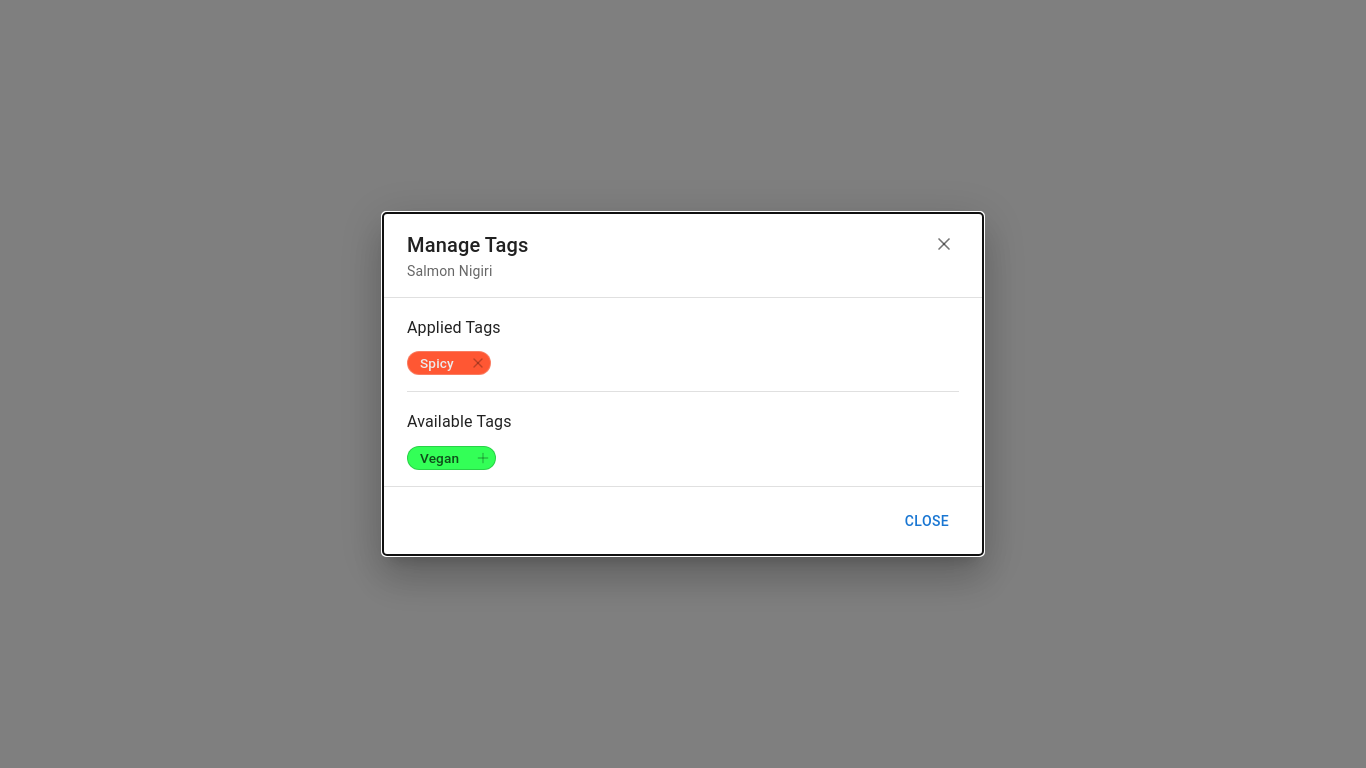
Tags dialog › clears the error on the next try, when closed with ×, and when reopened
Click the button "Vegan" at (452, 458), box [407,446,496,470]
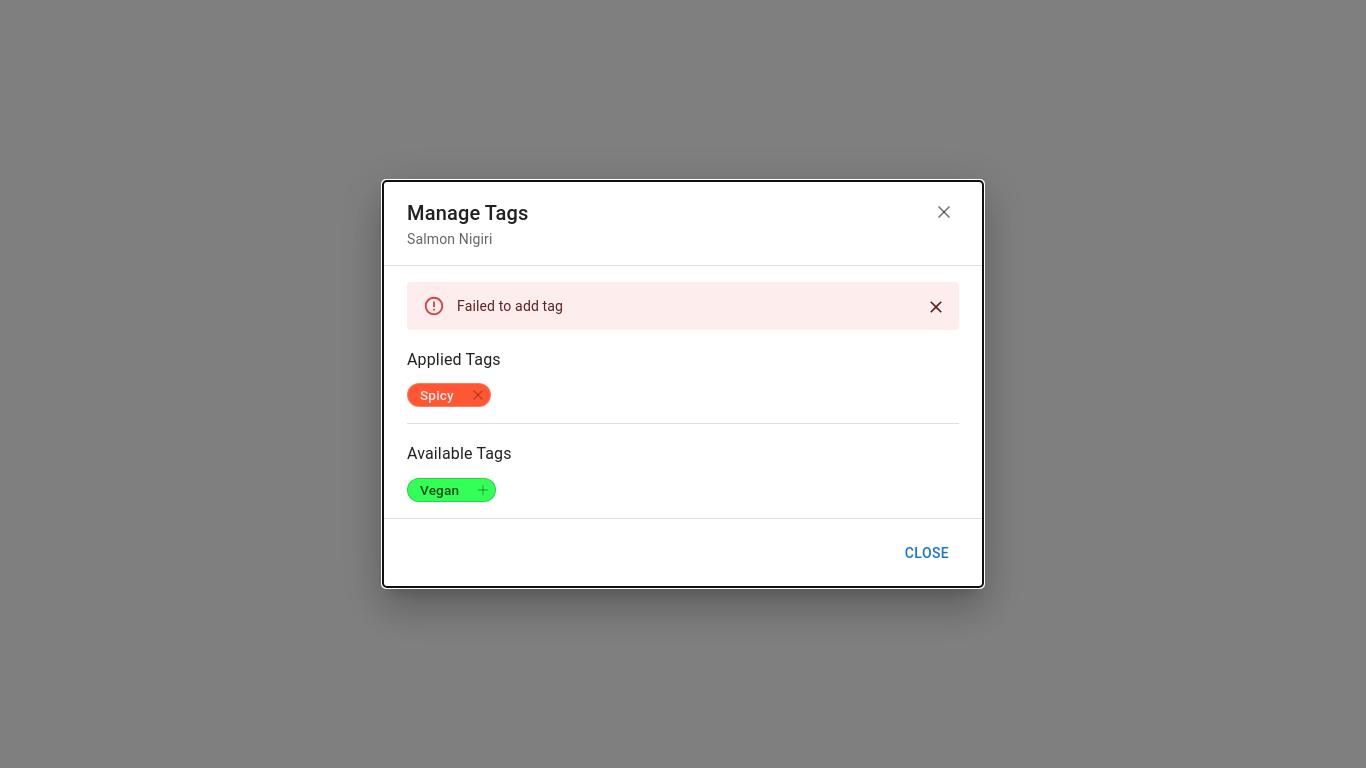
expect the message "Failed to add tag" is shown: met, box [407,282,959,330]
Click the button "Vegan" at (452, 490), box [407,478,496,502]
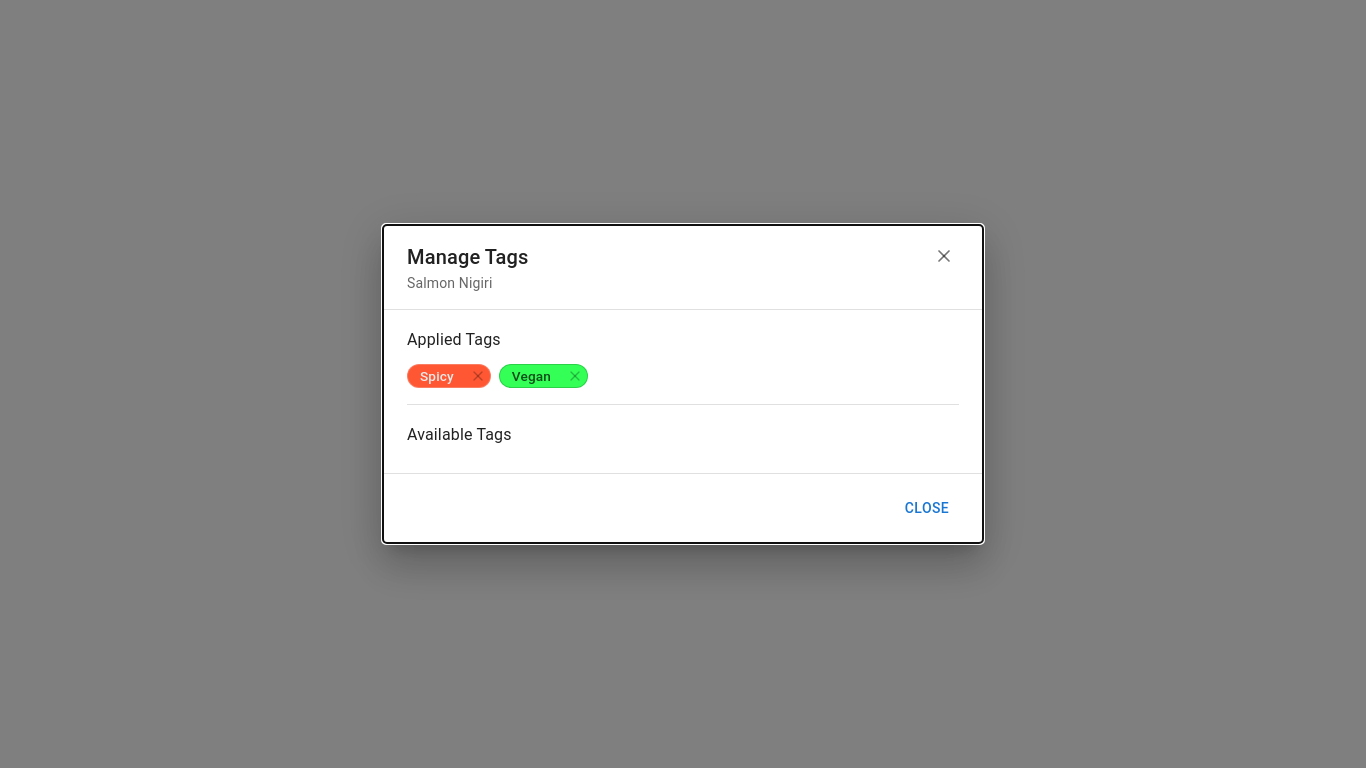
expect the message "Failed to add tag" is gone: met
Click the button "Spicy" at (449, 376), box [407,364,491,388]
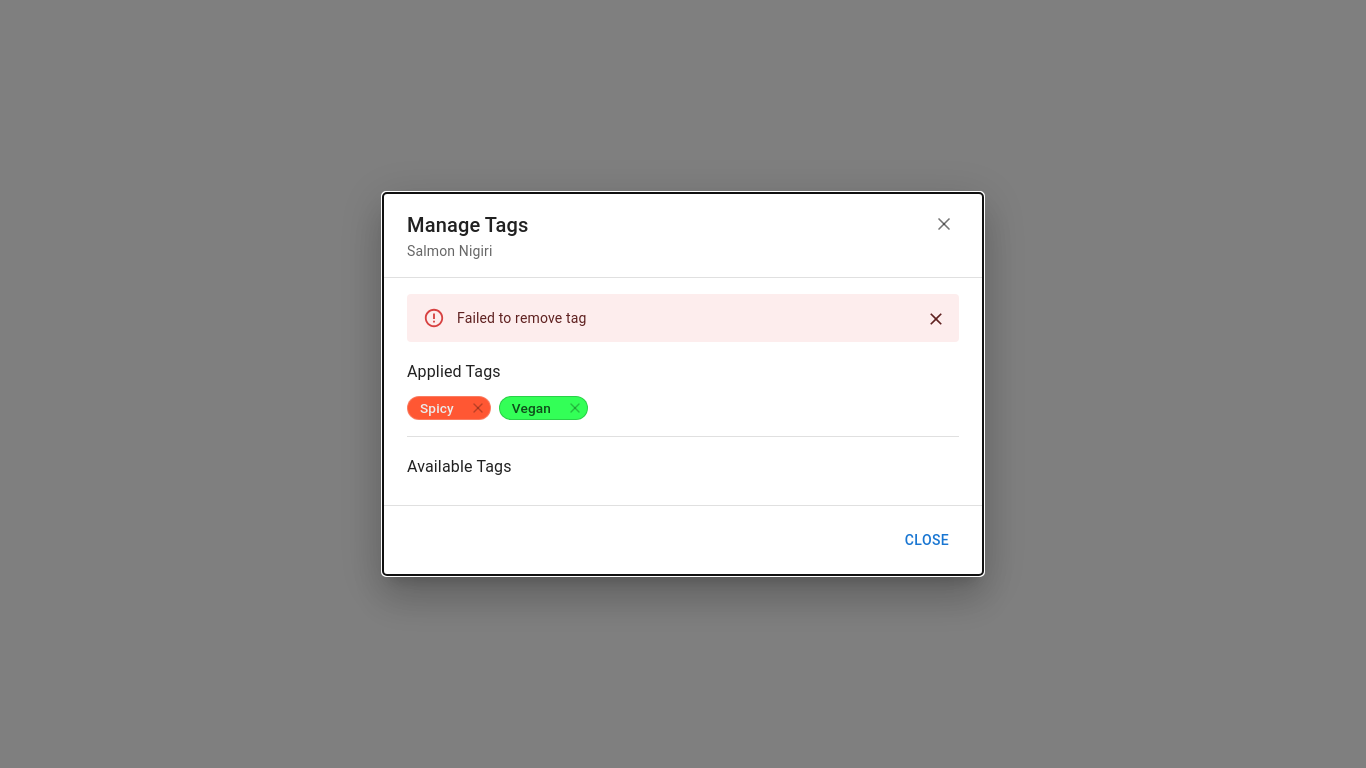
Click the button named "Close" in the row of "Failed to remove tag" at (936, 319), box [921,304,951,334]
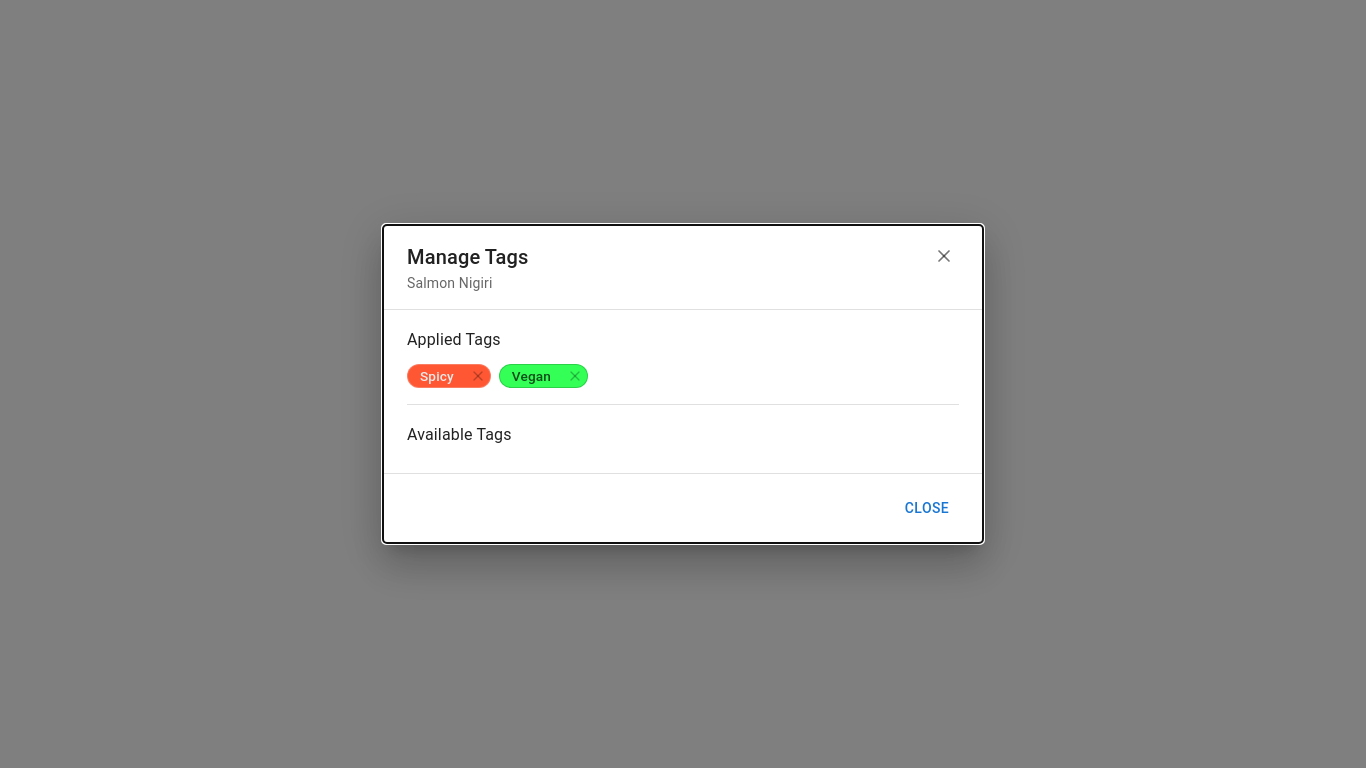
expect the message "Failed to remove tag" is gone: met
Click the button "Spicy" at (449, 376), box [407,364,491,388]
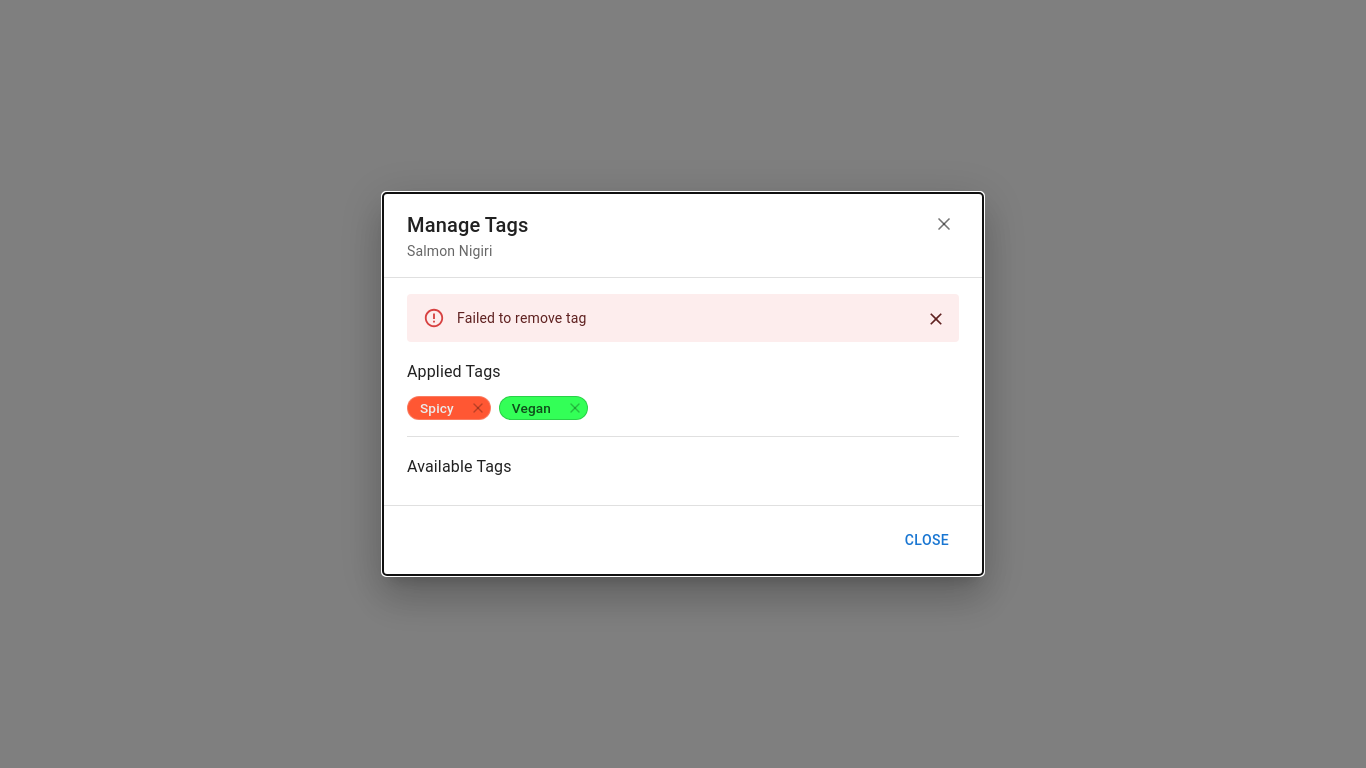
expect the message "Failed to remove tag" is shown: met, box [407,294,959,342]
